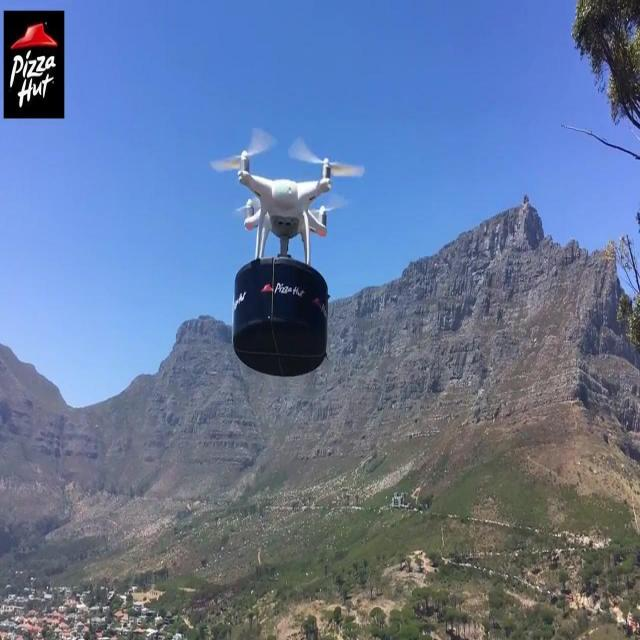UAV: (211, 129, 364, 267)
